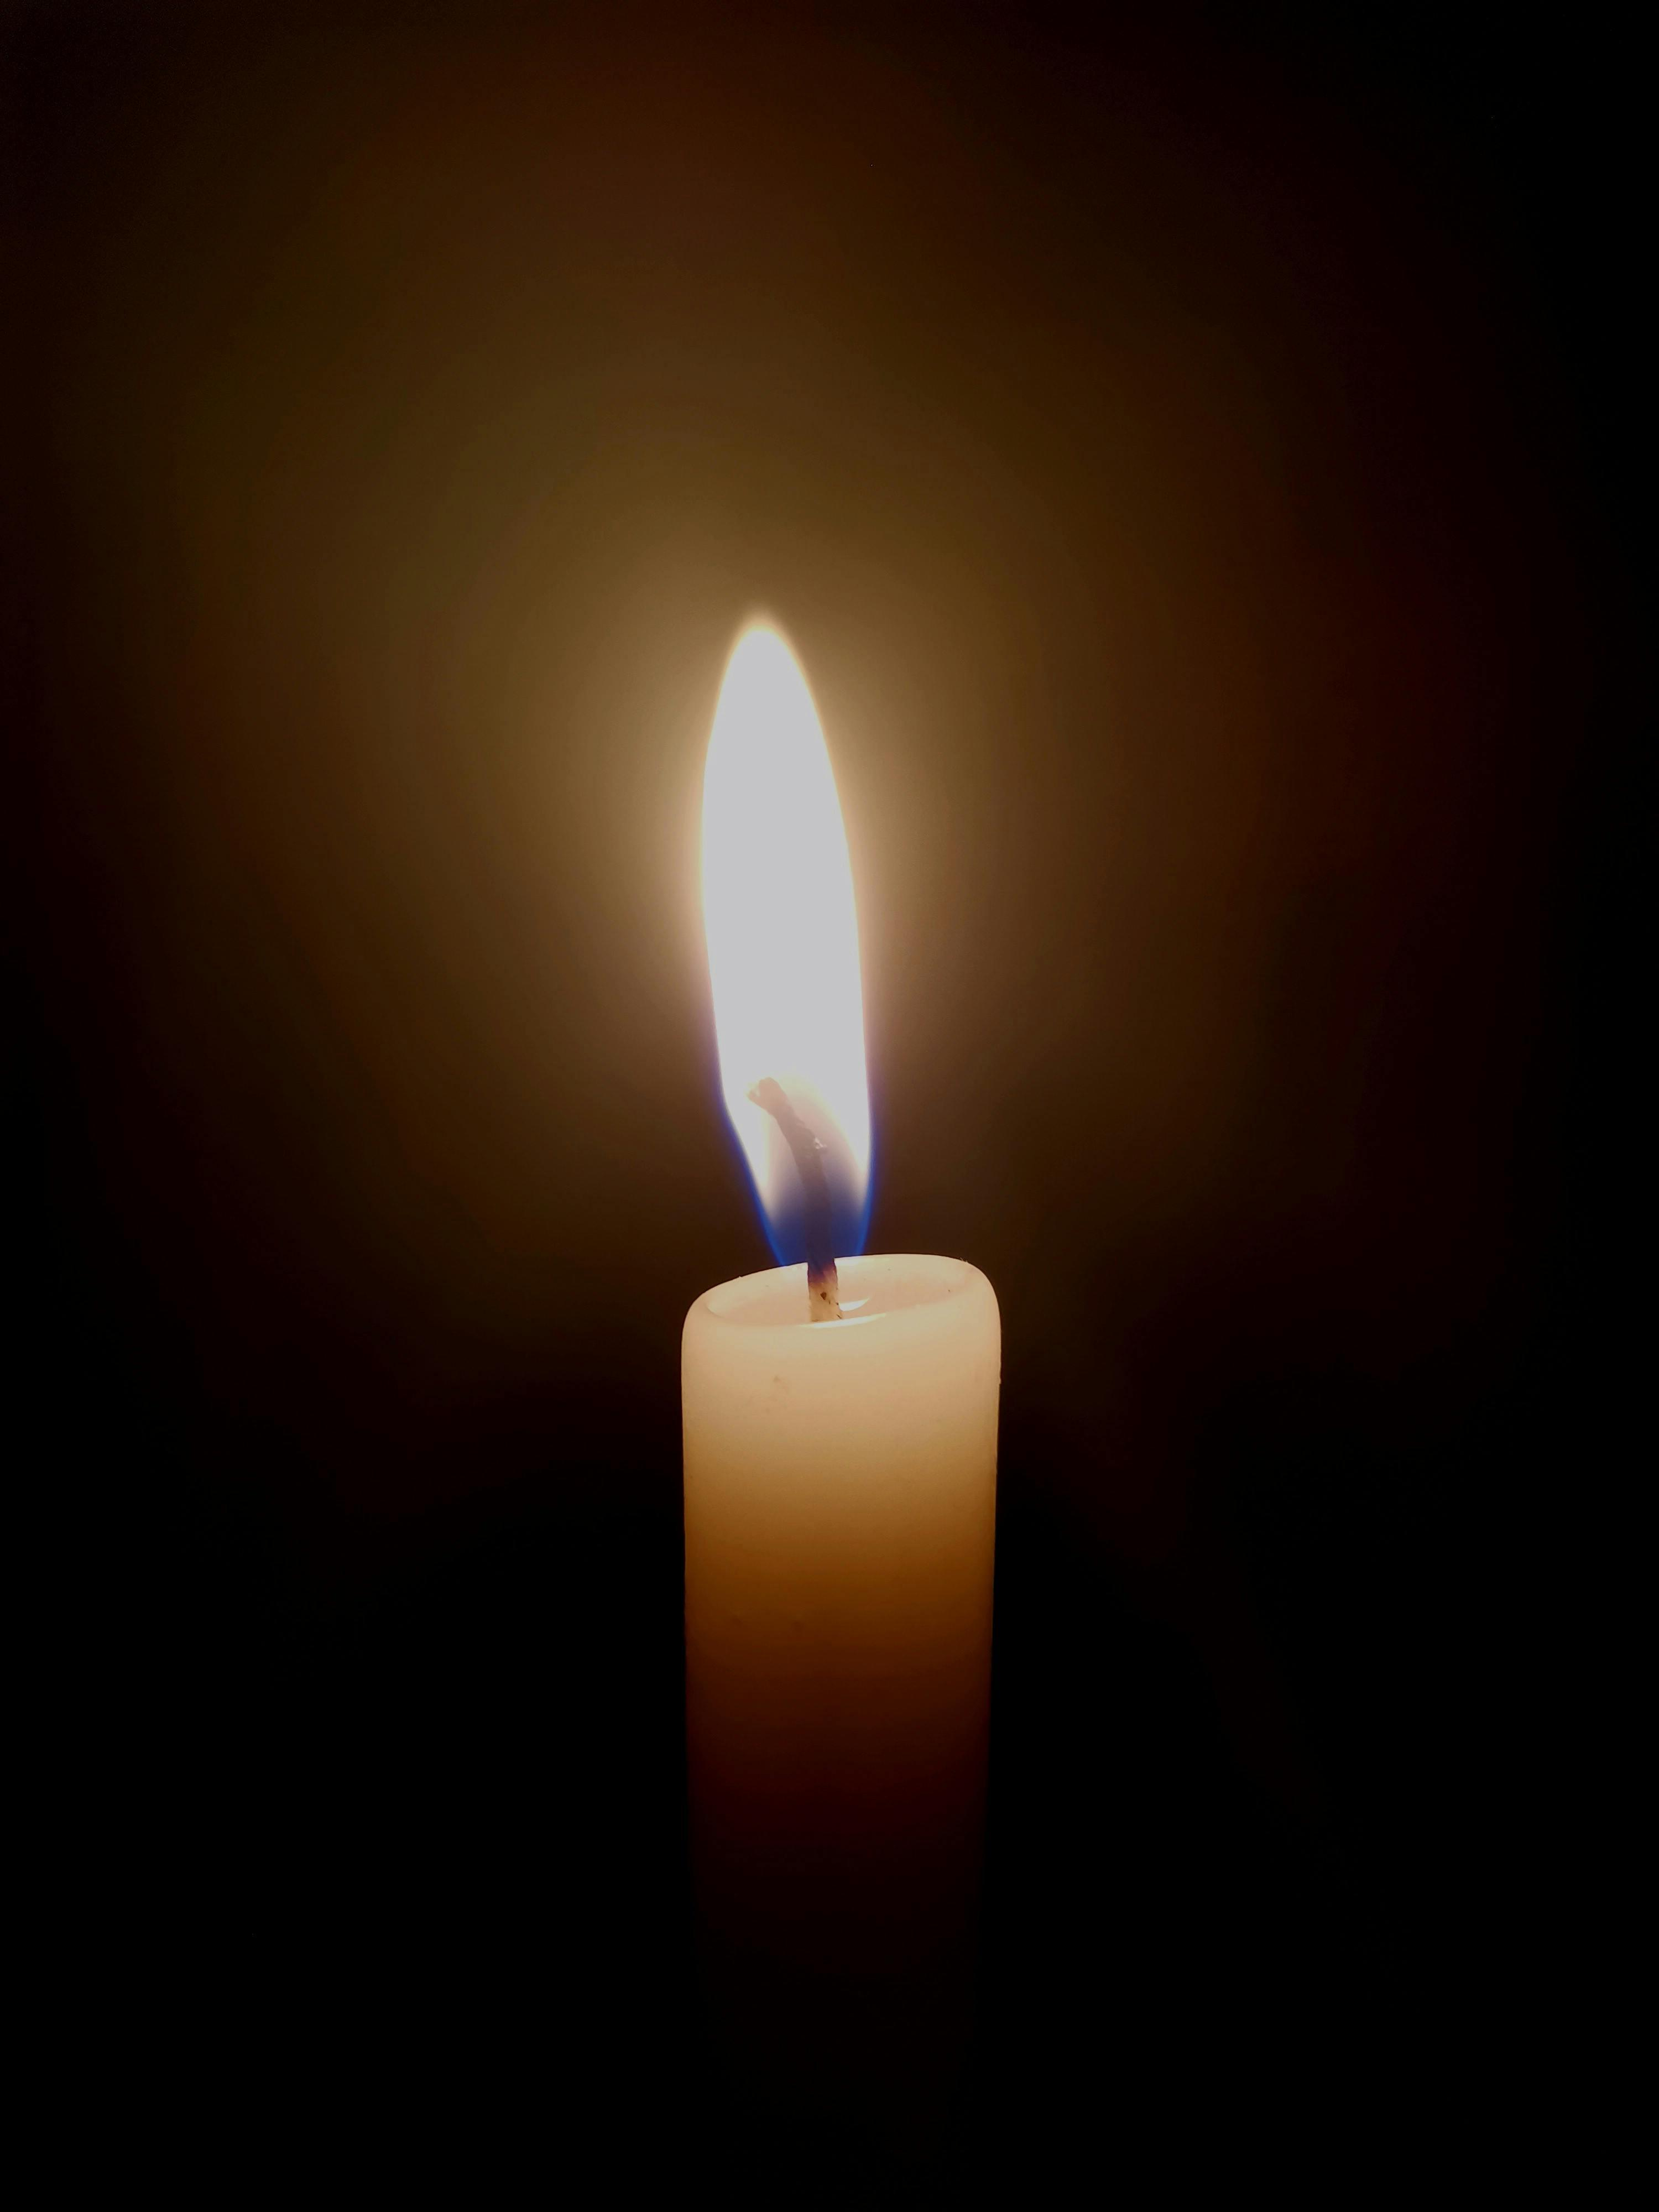Fire: (620, 571, 934, 1271)
